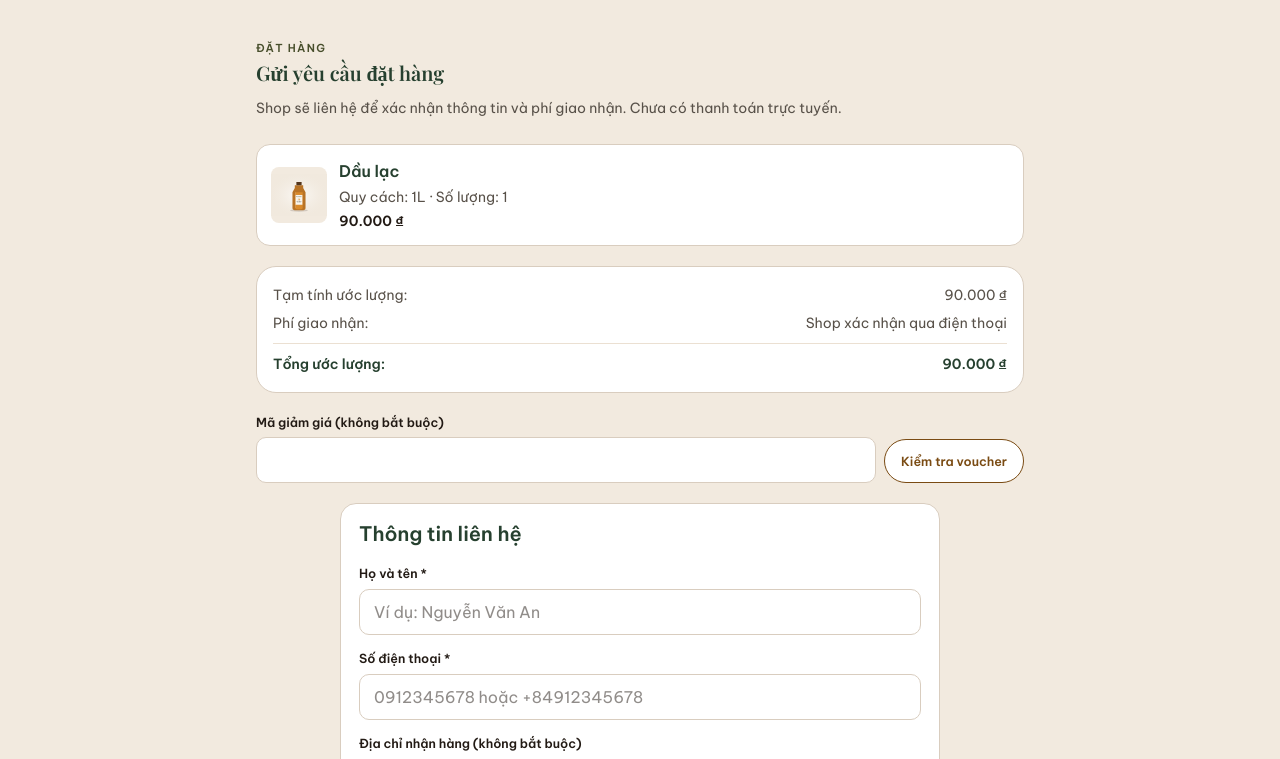
Test case: does not persist customer contact details in the receipt after success
Step 1. Type "Nguyen Van A" into the field with placeholder "Ví dụ: Nguyễn Văn An" → (640, 612), box [359,589,921,635]
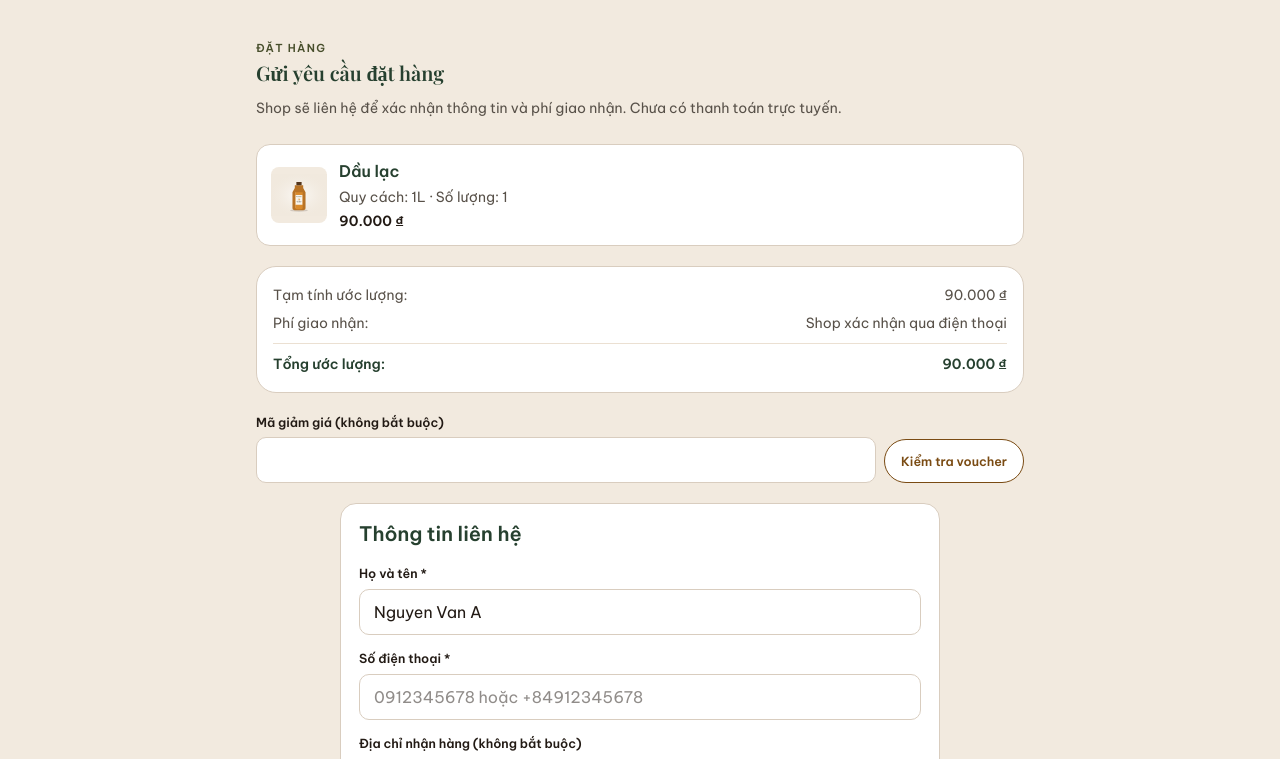
Step 2. Type "0912345678" into the field with placeholder "0912345678 hoặc +84912345678" → (640, 697), box [359,674,921,720]
(page scrolled)
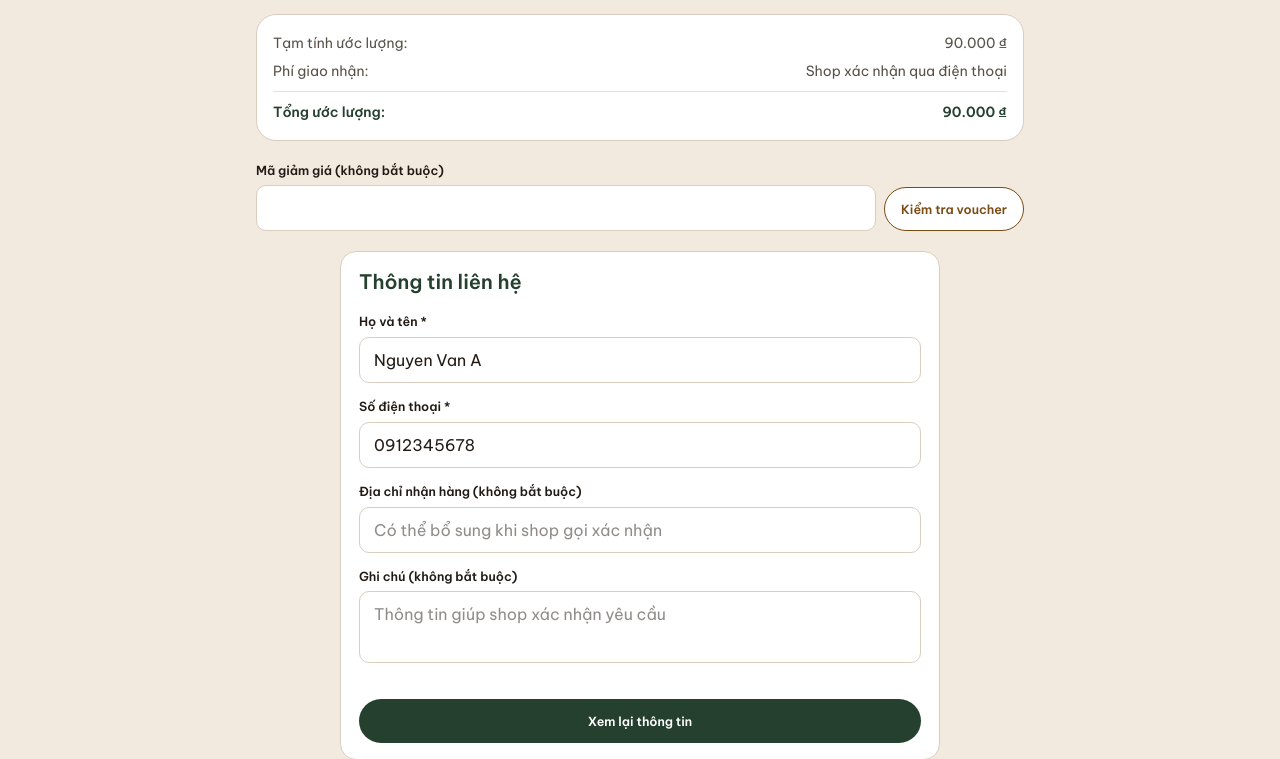
Step 3. Click the button "Xem lại thông tin" → (640, 721), box [359,699,921,743]
(page scrolled)
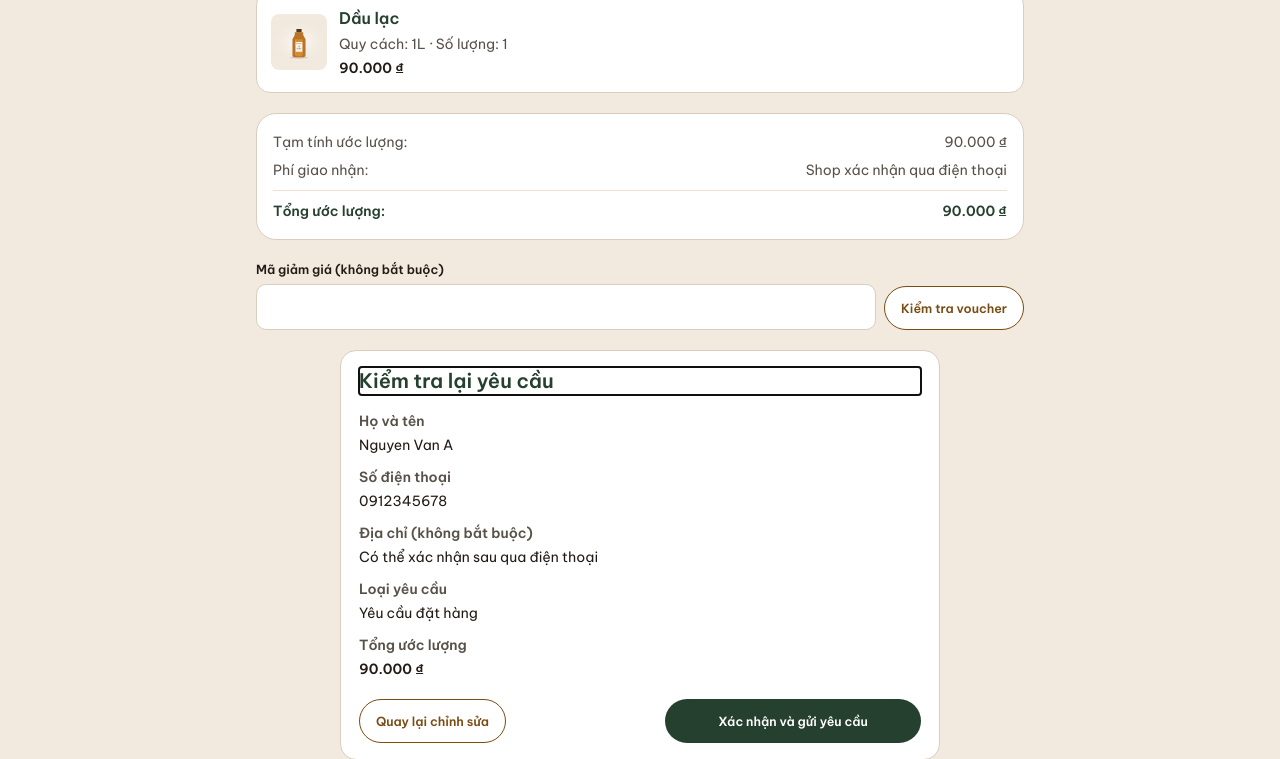
Step 4. Click the button "Xác nhận và gửi yêu cầu" → (793, 721), box [665,699,921,743]
(page scrolled)
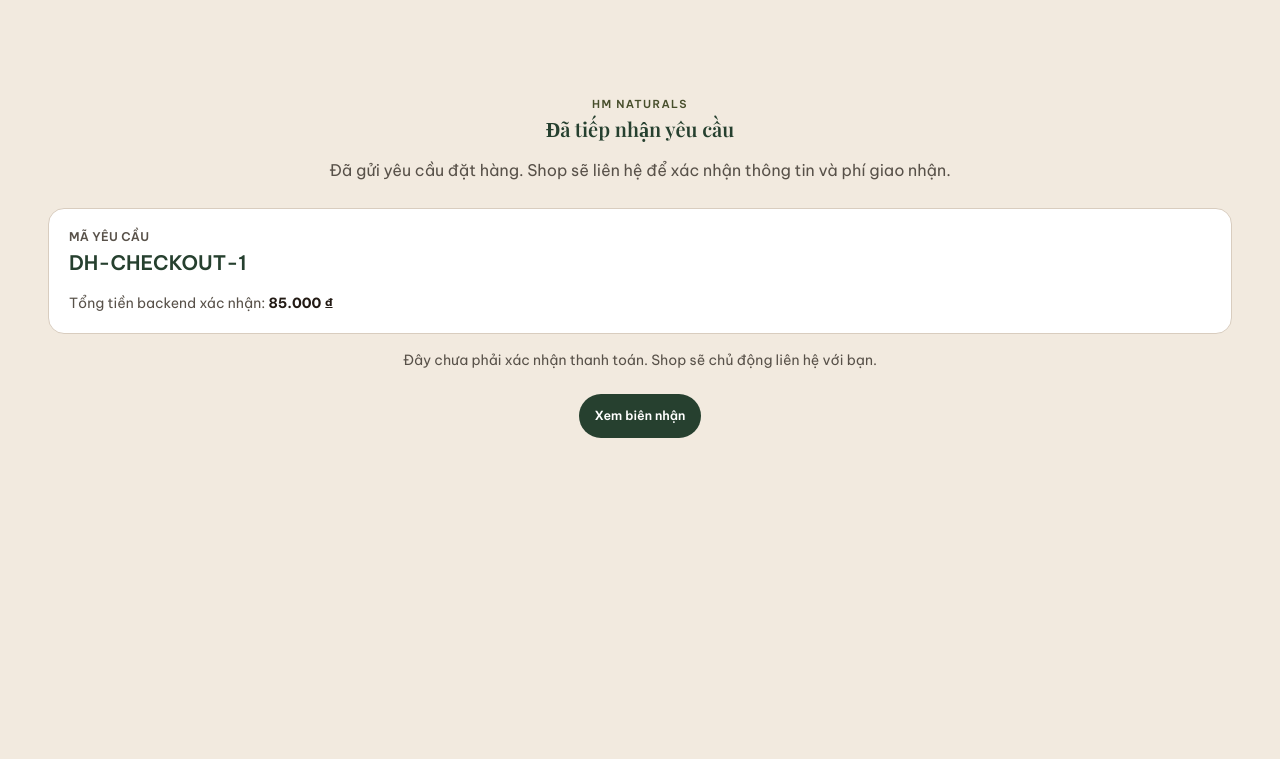
Expected: the text "DH-CHECKOUT-1" is shown, [69,250,247,274]
Expected: the text "85.000 ₫" is shown, [268,294,334,312]
